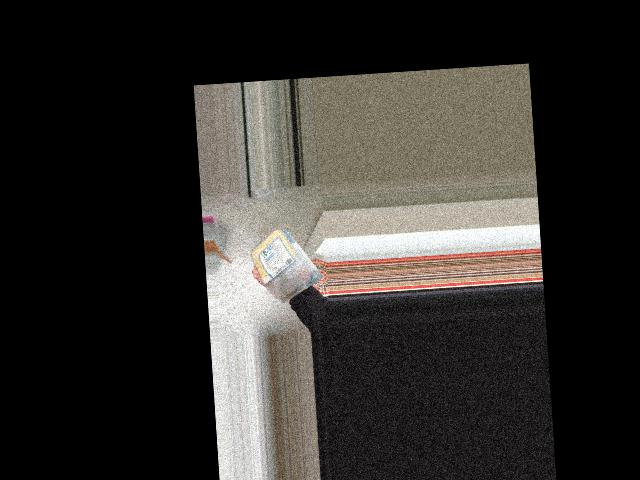cheese: (250, 228, 313, 297)
